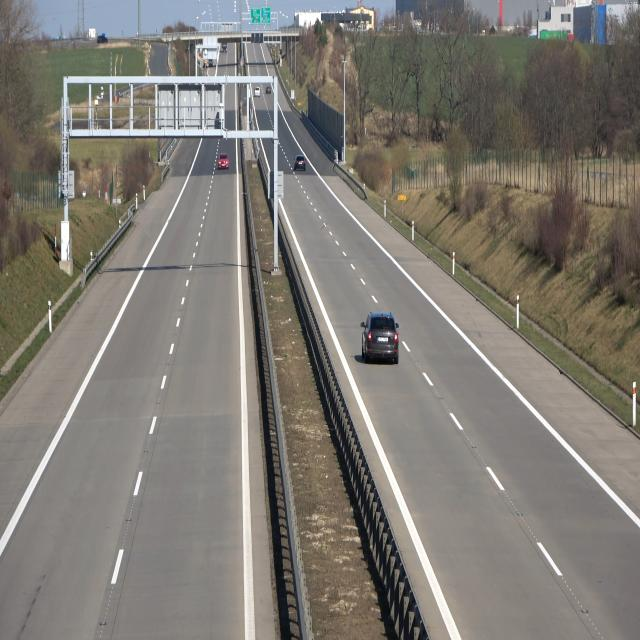Car: (362, 308, 401, 363), (294, 154, 307, 172), (218, 153, 230, 171), (254, 86, 262, 98)
